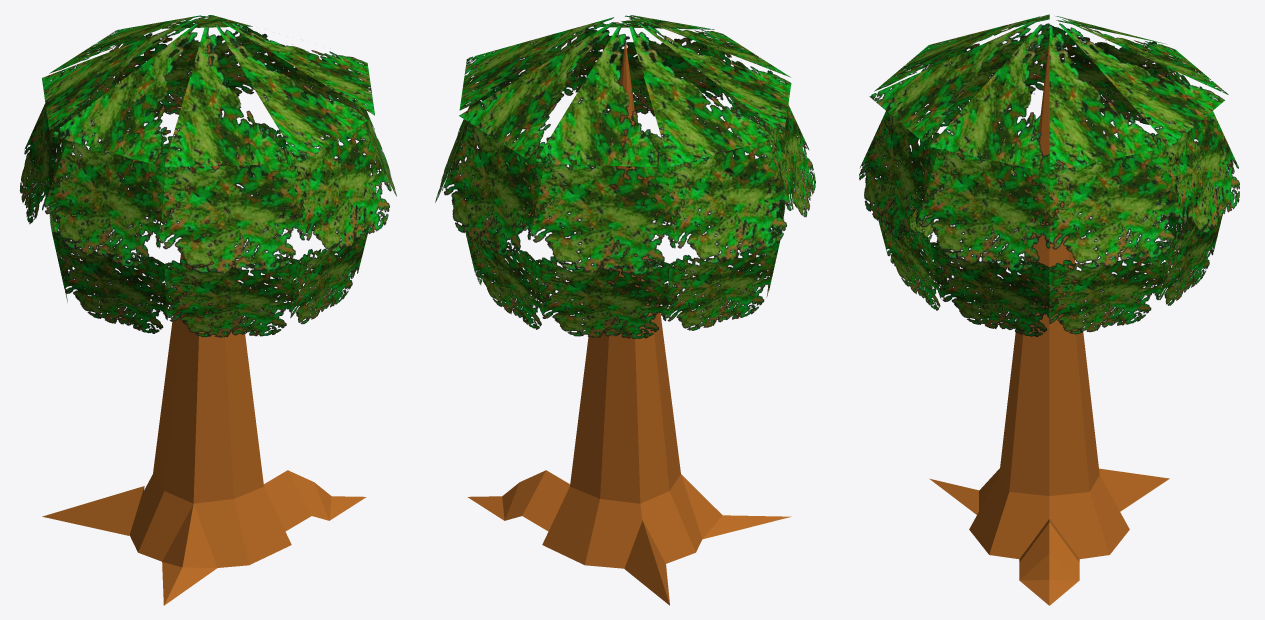
File: oaktree2.glb
3 views of the same model, side by side, from view 1: azimuth 30°, elevation 25°; view 2: azimuth 150°, elevation 25°; view 3: azimuth 270°, elevation 25° (orthographic).
Parts seen in each view (by area): view 1: leaves, tree; view 2: leaves, tree; view 3: leaves, tree.
Part boxes in pixels (left/top/right/bottom): leaves: left=19, top=15, right=396, bottom=337; tree: left=42, top=45, right=366, bottom=605; leaves: left=435, top=15, right=815, bottom=338; tree: left=467, top=39, right=791, bottom=605; leaves: left=859, top=14, right=1239, bottom=336; tree: left=929, top=38, right=1169, bottom=605.
Size of the model in its own units: 2.58 by 3.65 by 2.58.
2 materials, 1 textured.
